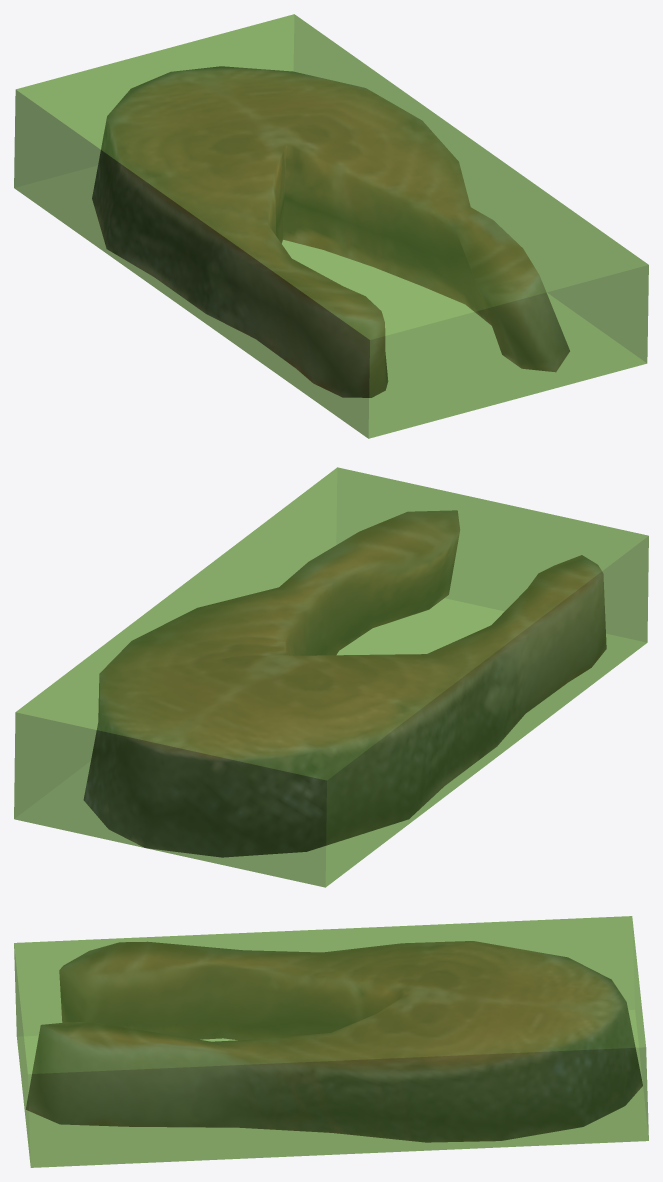
Rendered from pg_Salmon_Slice.fbx.
3 renders of one model, top to bottom at view 1: azimuth 30°, elevation 25°; view 2: azimuth 150°, elevation 25°; view 3: azimuth 270°, elevation 25°, orthographic. The views are drawn at different scales.
Visible parts, largest first — view 1: pg_Salmon_slice_a_col, pg_Salmon_slice_a_LOD0; view 2: pg_Salmon_slice_a_col, pg_Salmon_slice_a_LOD0; view 3: pg_Salmon_slice_a_col, pg_Salmon_slice_a_LOD0.
Part boxes in pixels (<box>): pg_Salmon_slice_a_col: <box>14,14,648,438</box>; pg_Salmon_slice_a_LOD0: <box>92,66,569,397</box>; pg_Salmon_slice_a_col: <box>14,467,648,887</box>; pg_Salmon_slice_a_LOD0: <box>83,510,606,857</box>; pg_Salmon_slice_a_col: <box>14,916,648,1167</box>; pg_Salmon_slice_a_LOD0: <box>26,941,642,1142</box>.
Size of what is drawn, in the model's own units: 6.71 by 2.39 by 12.6.
